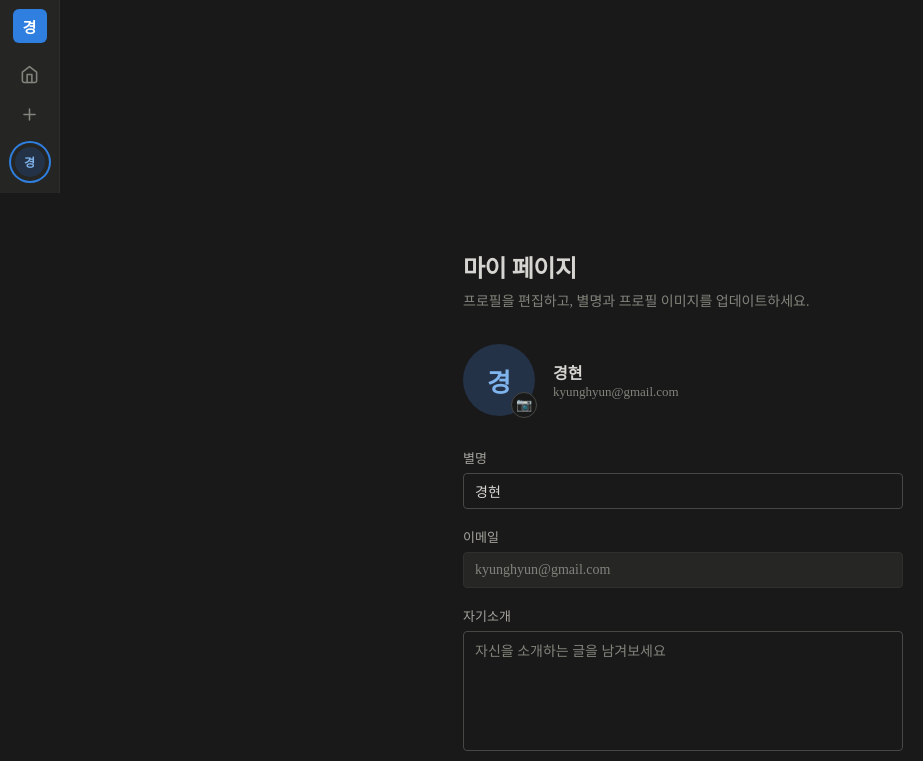
it: 마이페이지 자기소개 — 등록과 확인 (US1) › 입력 후 저장하면 PUT 요청을 보내고 저장 확인 표시가 나타난다
The image size is (923, 761).
Type "안녕하세요" into the text box with placeholder "자신을 소개하는 글을 남겨보세요". click: [683, 691]
box: [463,631,903,751]
(page scrolled)
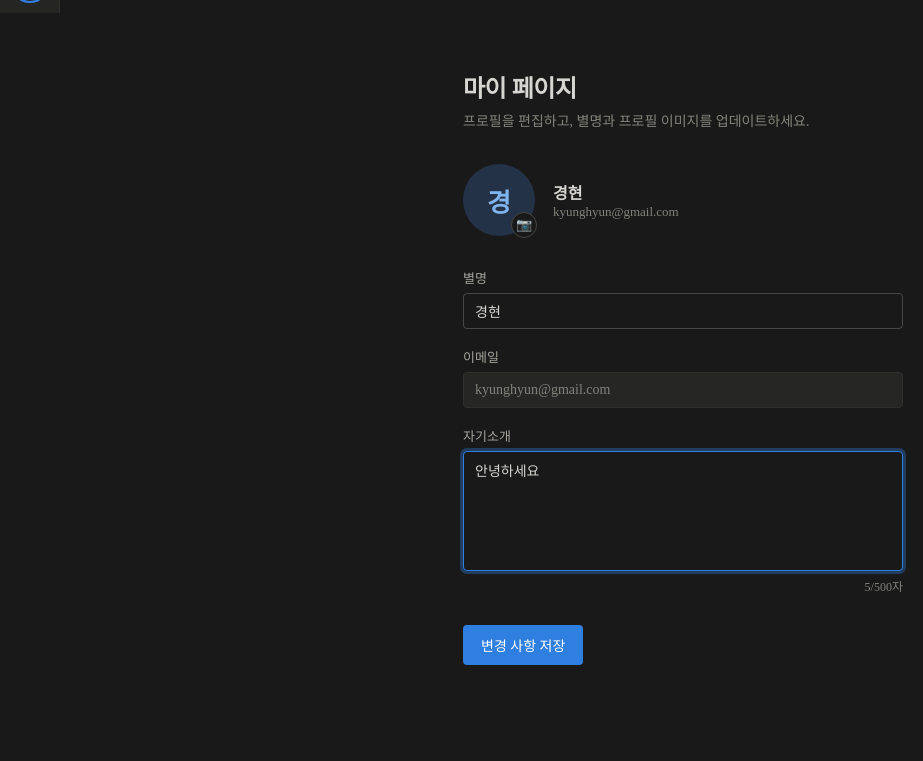
Click the button "변경 사항 저장". click: [523, 645]
box: [463,625,583,665]
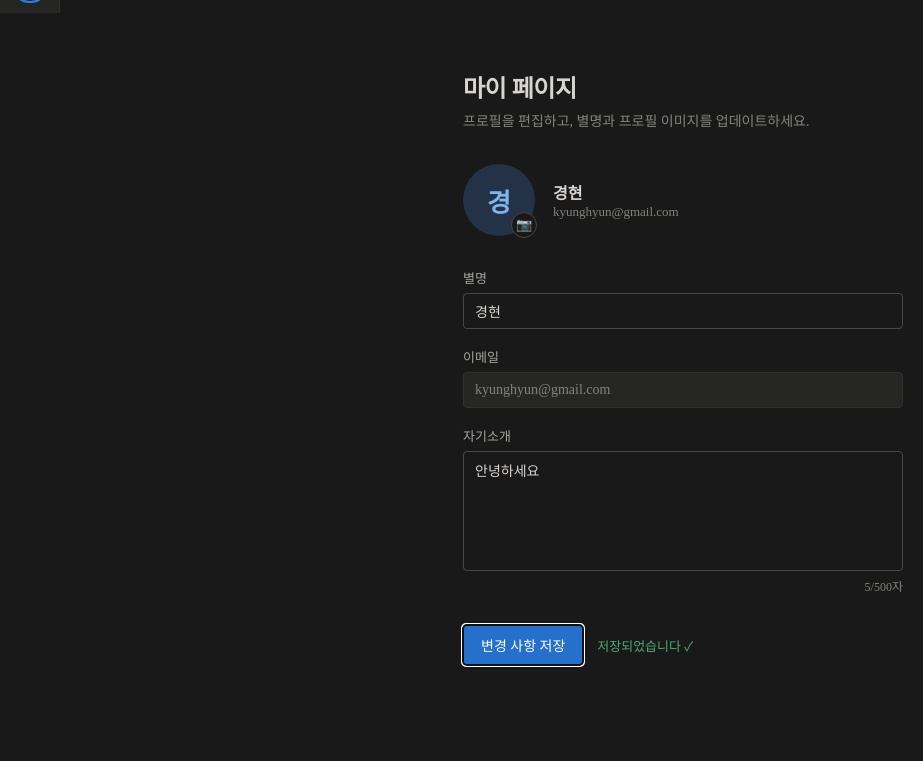
Expected: the text "저장되었습니다 ✓" is shown, [597,636,693,654]
